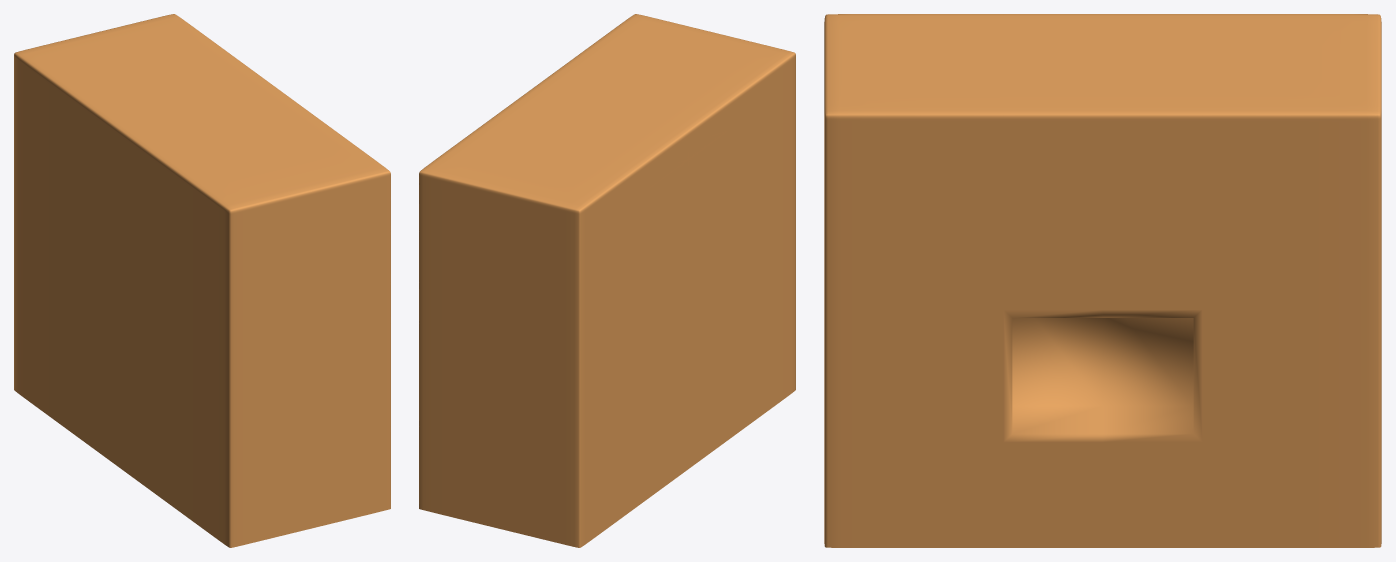
Rendered from BASE AGUJERO.fbx.
The picture shows the model from 3 angles, left to right: view 1: azimuth 30°, elevation 25°; view 2: azimuth 150°, elevation 25°; view 3: azimuth 270°, elevation 25°; orthographic projection. The views are drawn at different scales.
Parts seen in each view (by area): view 1: Cube.006; view 2: Cube.006; view 3: Cube.006.
Boxes of the visible parts, <box> form: Cube.006: <box>14,14,390,547</box>; Cube.006: <box>419,14,795,547</box>; Cube.006: <box>824,14,1381,547</box>.
Bounding box in the file's own units: 689 × 1371 × 1596.
